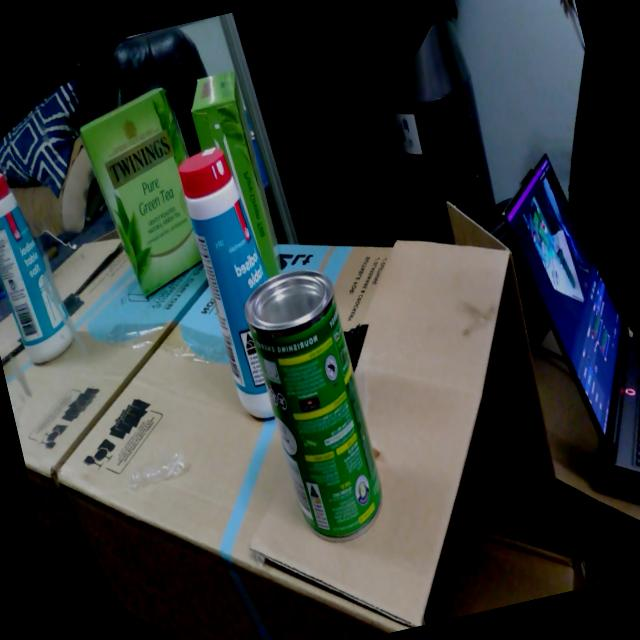nestle_milo_tin: (244, 269, 381, 540)
twinings_greentea_box: (191, 69, 281, 278)
woolworths_salt_bottle: (178, 147, 274, 418)
